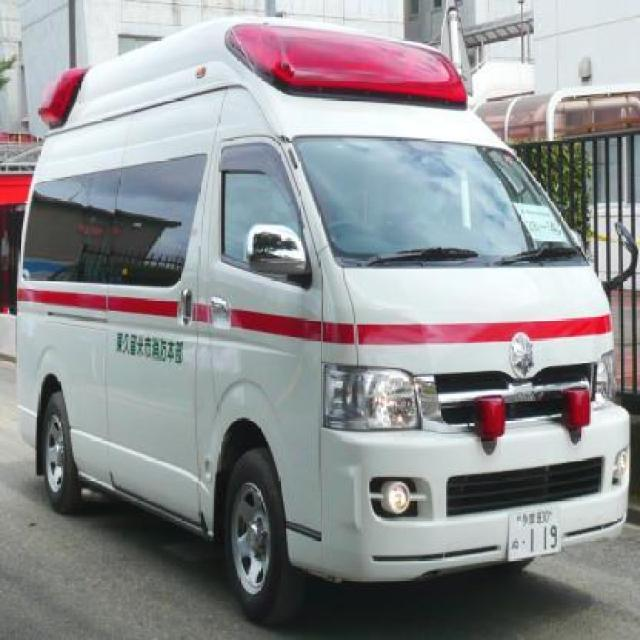Ambulance: (17, 9, 622, 589)
